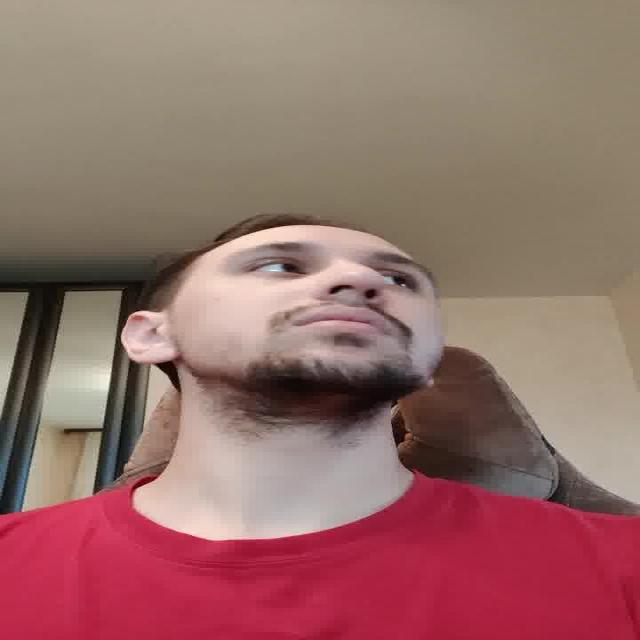earlobe: (143, 343, 180, 365)
eye: (248, 258, 308, 278), (380, 272, 421, 289)
nose: (318, 290, 379, 310)
wholeear: (121, 311, 179, 365)
